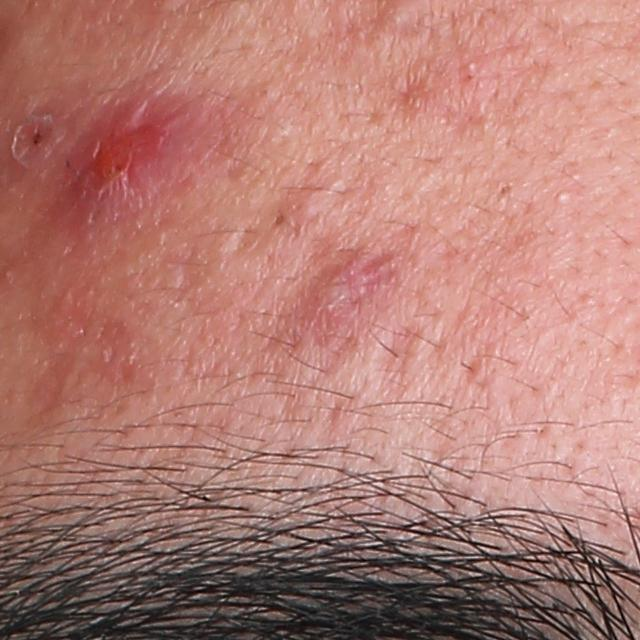atrophic_scar: (376, 326, 434, 416)
comedo: (553, 188, 577, 209), (271, 208, 290, 227)
papule: (293, 255, 367, 336)
